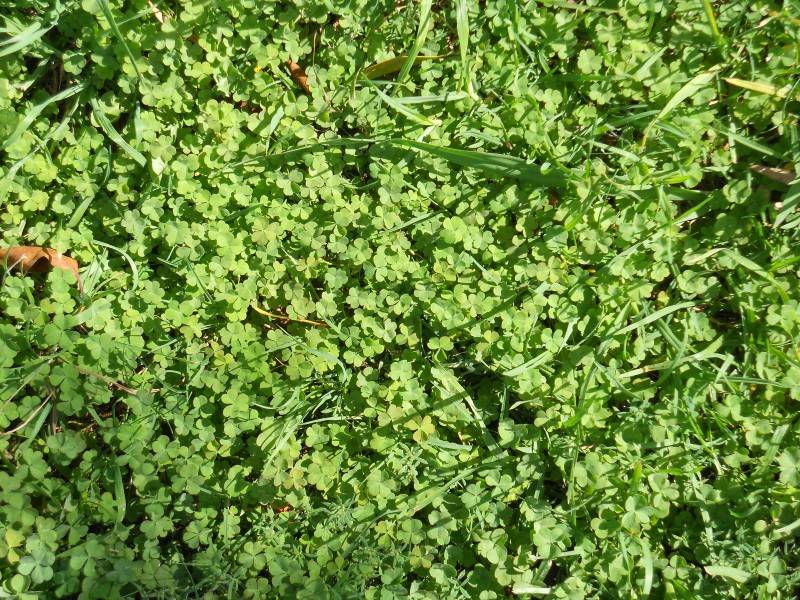oxalis: (97, 100, 732, 488)
